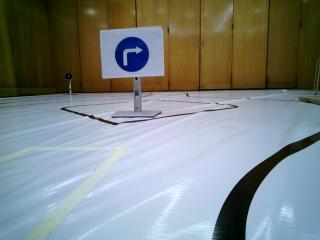right: (100, 32, 163, 79)
